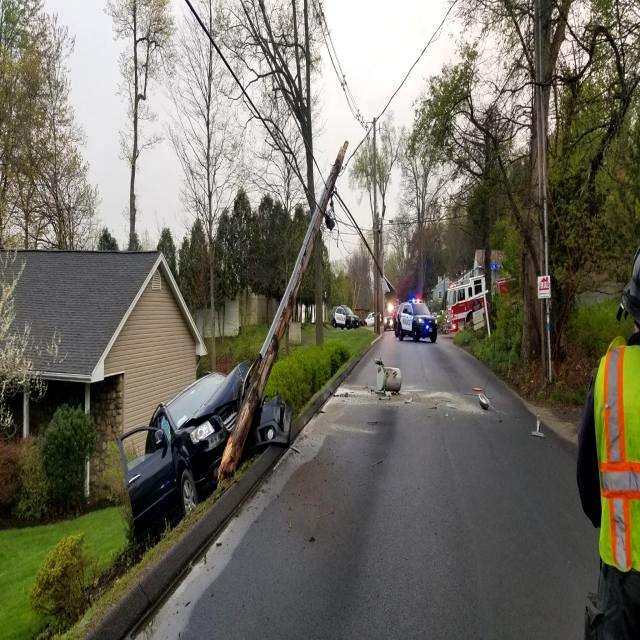Broken Pole: (209, 127, 359, 485)
